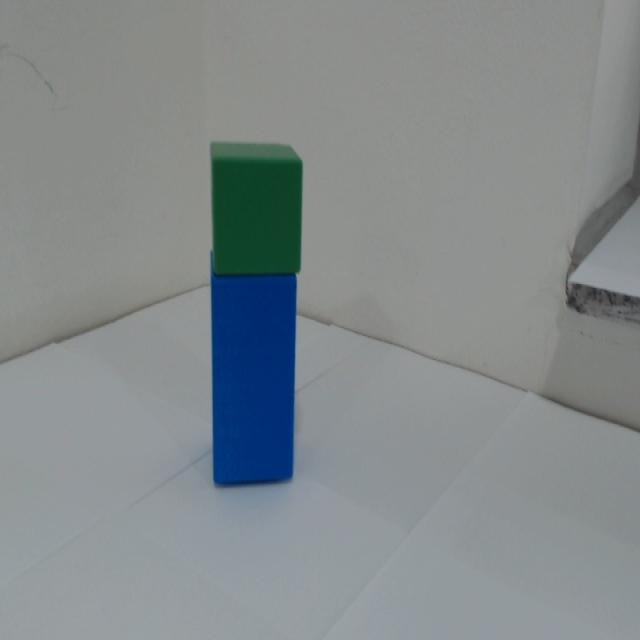cube: (206, 135, 309, 273)
